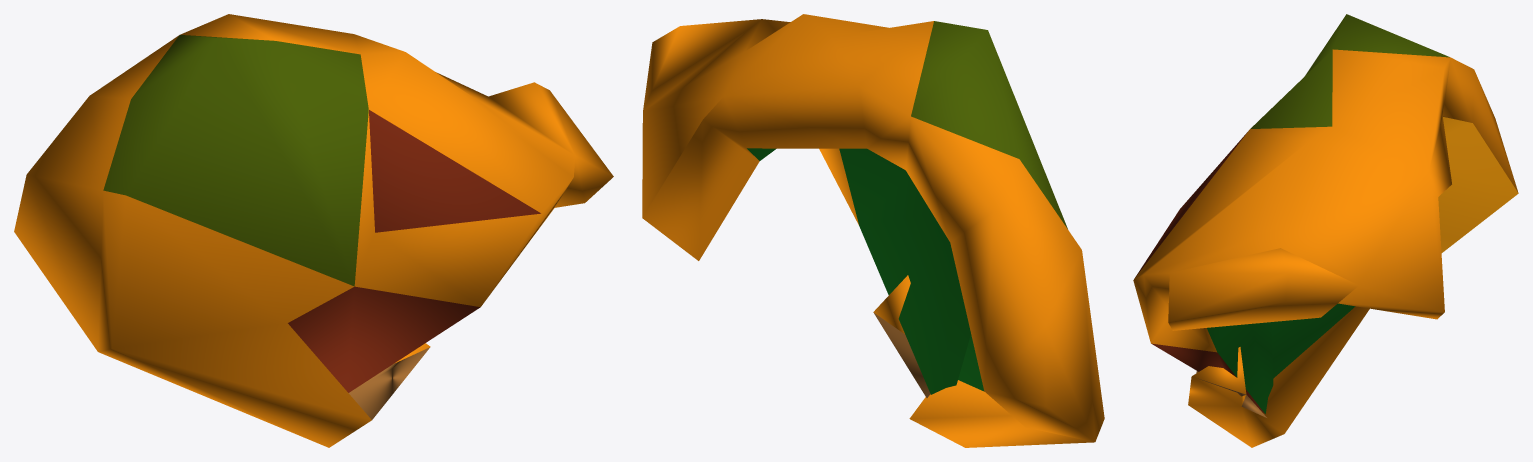
3 renders of one model, left to right at view 1: azimuth 30°, elevation 25°; view 2: azimuth 150°, elevation 25°; view 3: azimuth 270°, elevation 25°, orthographic. The views are drawn at different scales.
Visible parts, largest first — view 1: Pumpkin_01.001_cell; view 2: Pumpkin_01.001_cell; view 3: Pumpkin_01.001_cell.
Part boxes in pixels (bbox=[...]): Pumpkin_01.001_cell: bbox=[14, 14, 613, 447]; Pumpkin_01.001_cell: bbox=[642, 14, 1104, 447]; Pumpkin_01.001_cell: bbox=[1133, 14, 1518, 447].
Bounding box in the file's own units: 0.9744 × 0.8386 × 0.7293.
Materials: 2 (2 with a texture image).
